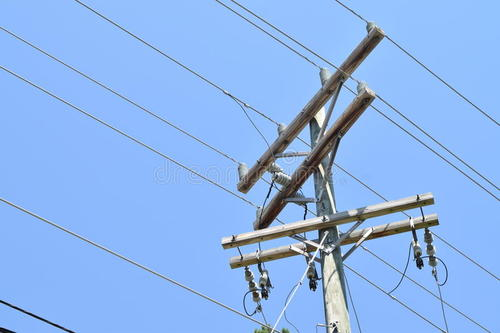utility_pole: (206, 11, 457, 318)
